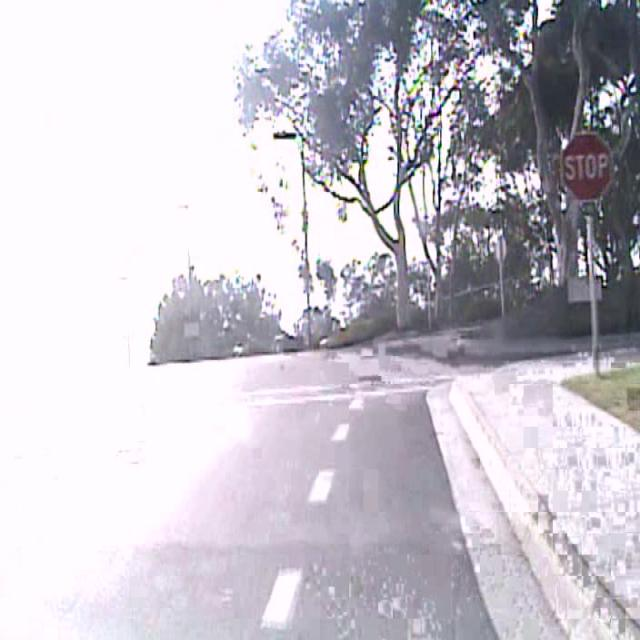stop_sign: (561, 130, 612, 202)
